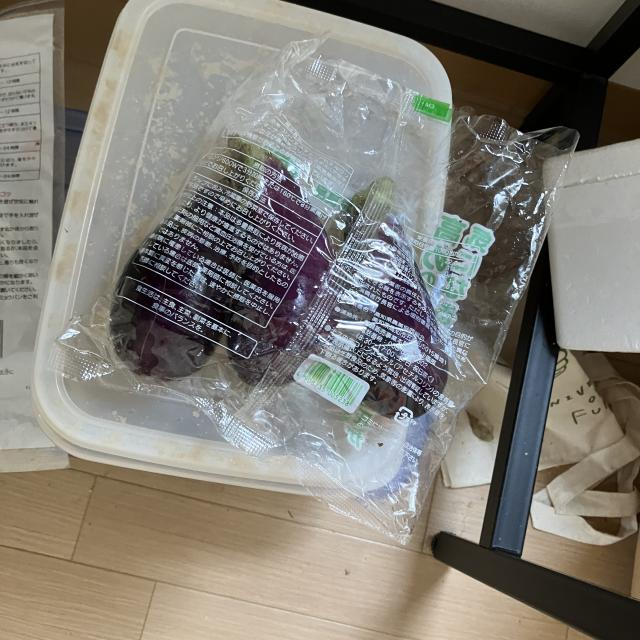eggplant: (337, 174, 456, 421), (228, 134, 338, 392), (108, 179, 238, 383)
